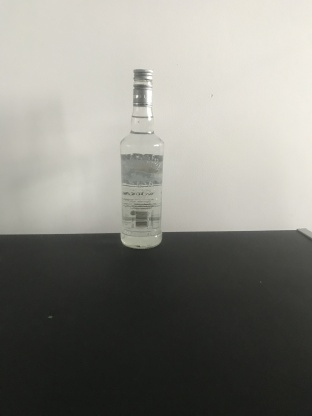nakretka: (131, 68, 153, 107)
